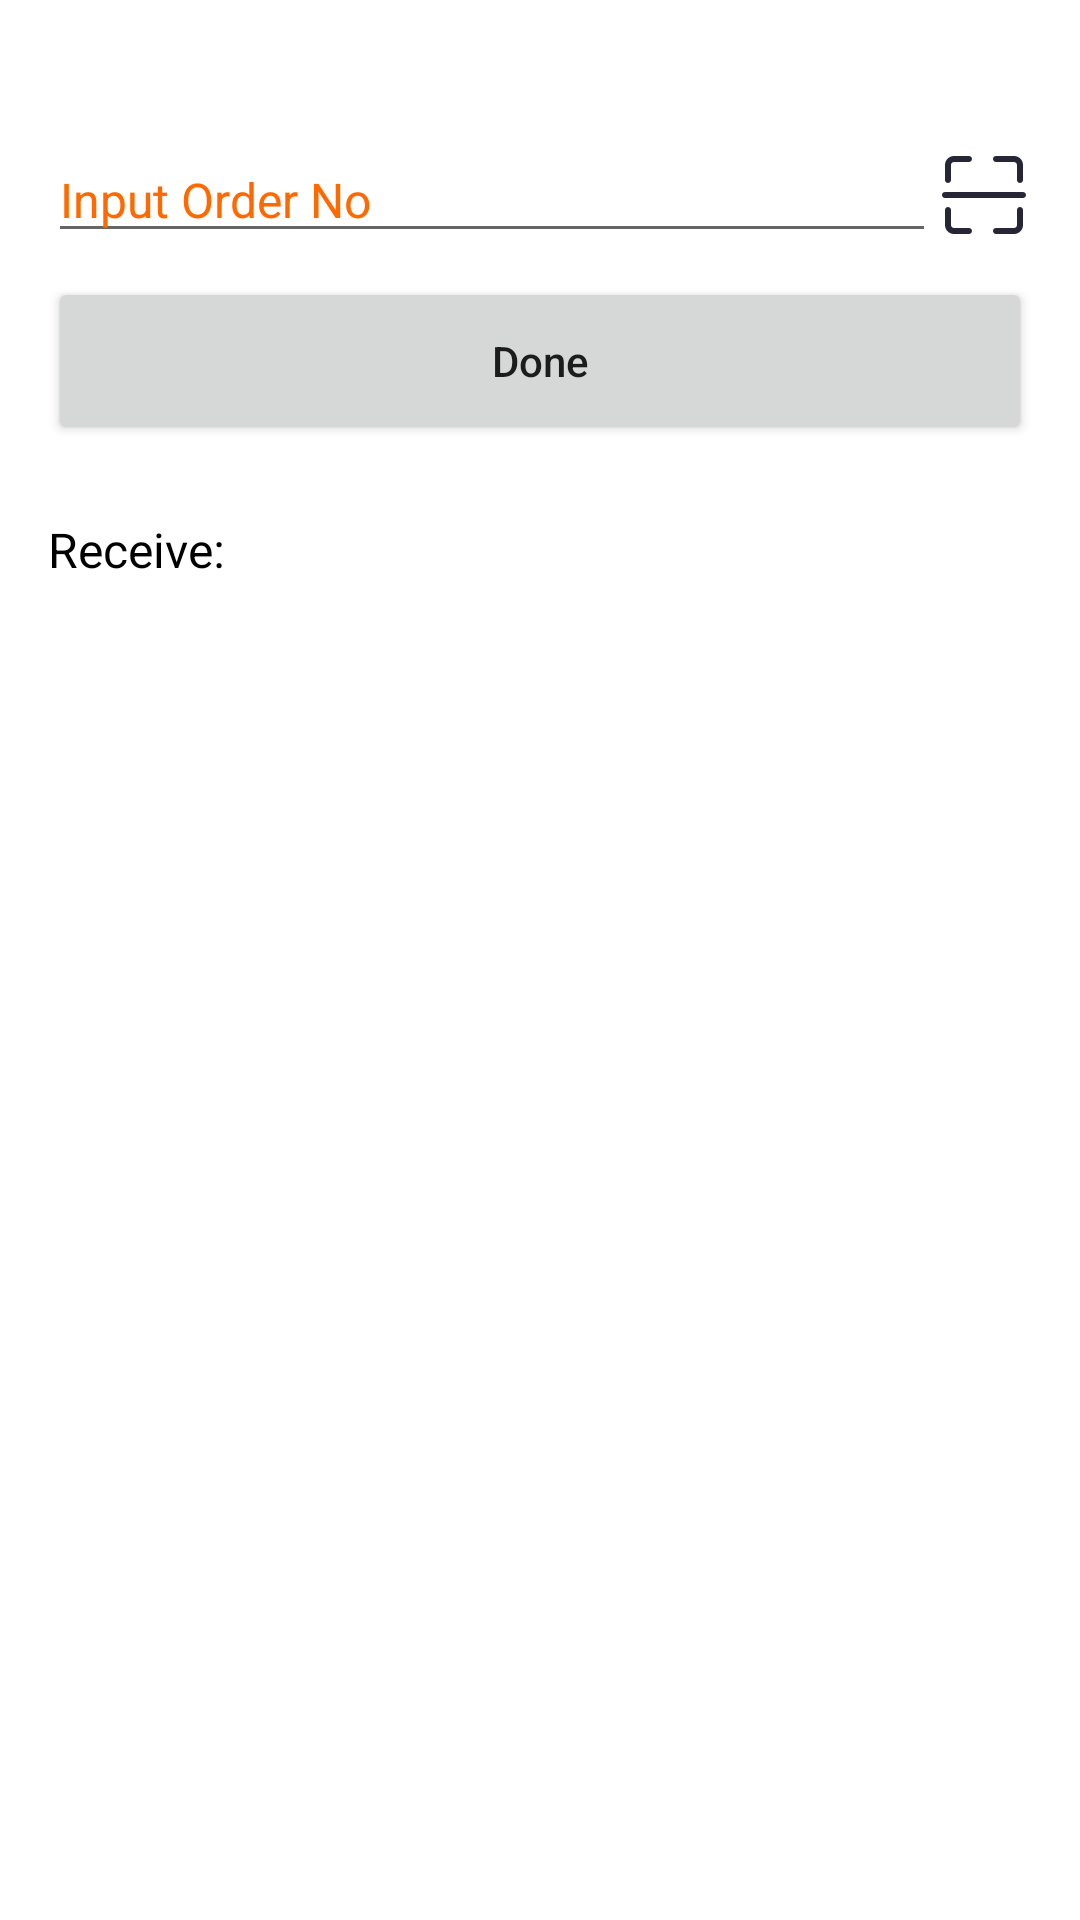

Where to tap for icons on this 1080x1920 app screen, as point (x, y):
widget scan: point (984, 195)
